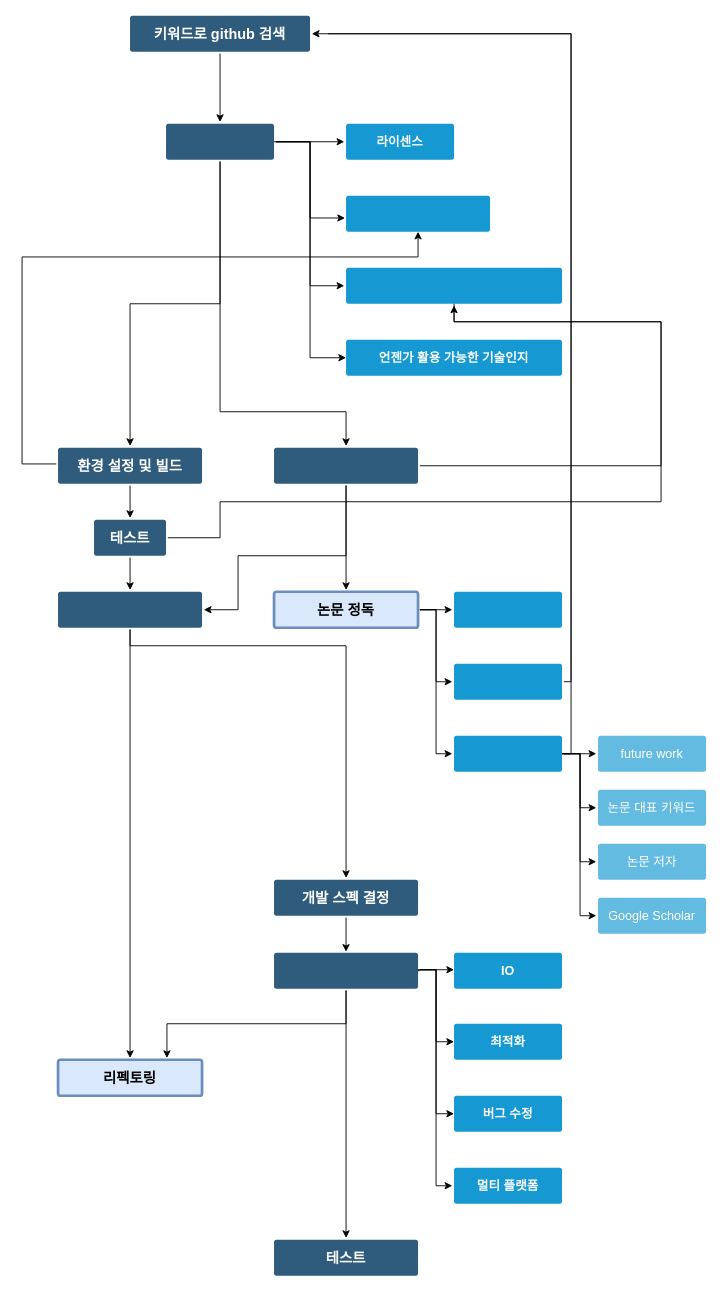
Image size: 722x1291. Some labels were removed from this diagram. Each missing label, with the centre of its shape:
"Platform" belongs at [418,213].
"관련 기술 파악" belongs at [508,681].
"기능 구현" belongs at [346,970].
"기반 지식" belongs at [508,609].
"논문 흐름 파악" belongs at [346,465].
"연구 결정" belongs at [220,141].
"정말 원하는 기능을 구현 하는지" belongs at [454,285].
"코드 리딩" belongs at [130,609].
"후속 연구 파악" belongs at [508,753].
